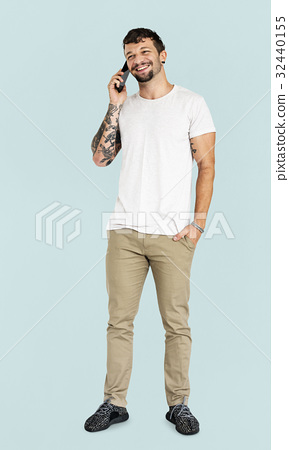phone: (104, 54, 130, 97)
talk: (111, 43, 159, 102)
